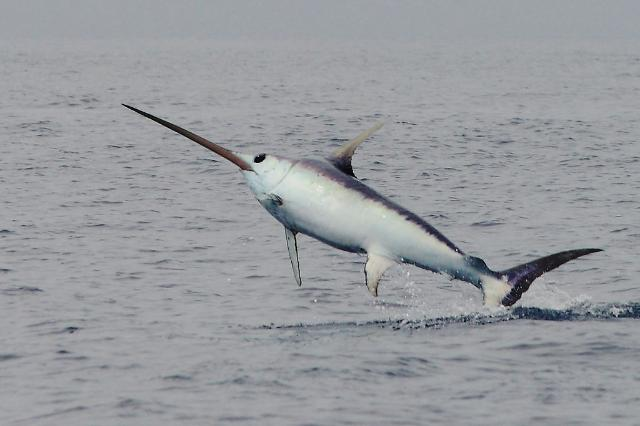Mulut: (210, 131, 276, 192)
Sirip Dada: (272, 208, 316, 304)
Sirip Ekor: (462, 239, 608, 336)
Sirip Perut: (354, 240, 400, 320)
Sirip Punggung: (308, 110, 402, 200)
